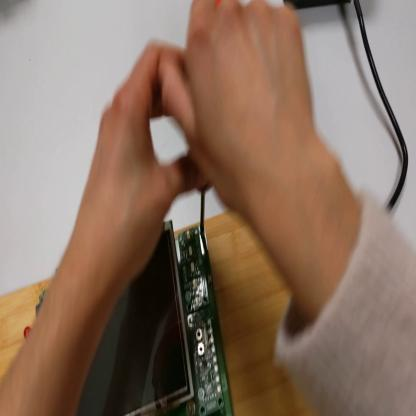hand: (76, 44, 203, 288), (173, 4, 317, 219)
low voltage board: (36, 226, 236, 416)
screwdriver-: (191, 68, 209, 238)
working area: (1, 210, 306, 414)
